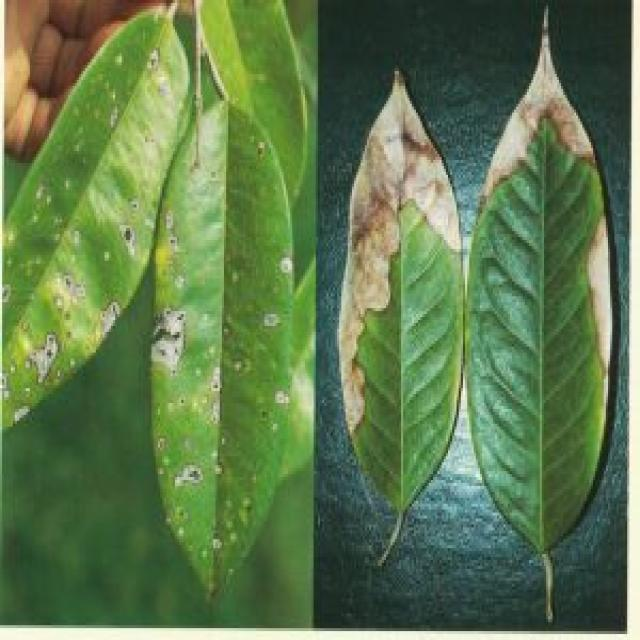Anthracnose: (155, 97, 305, 594), (14, 31, 148, 431)
